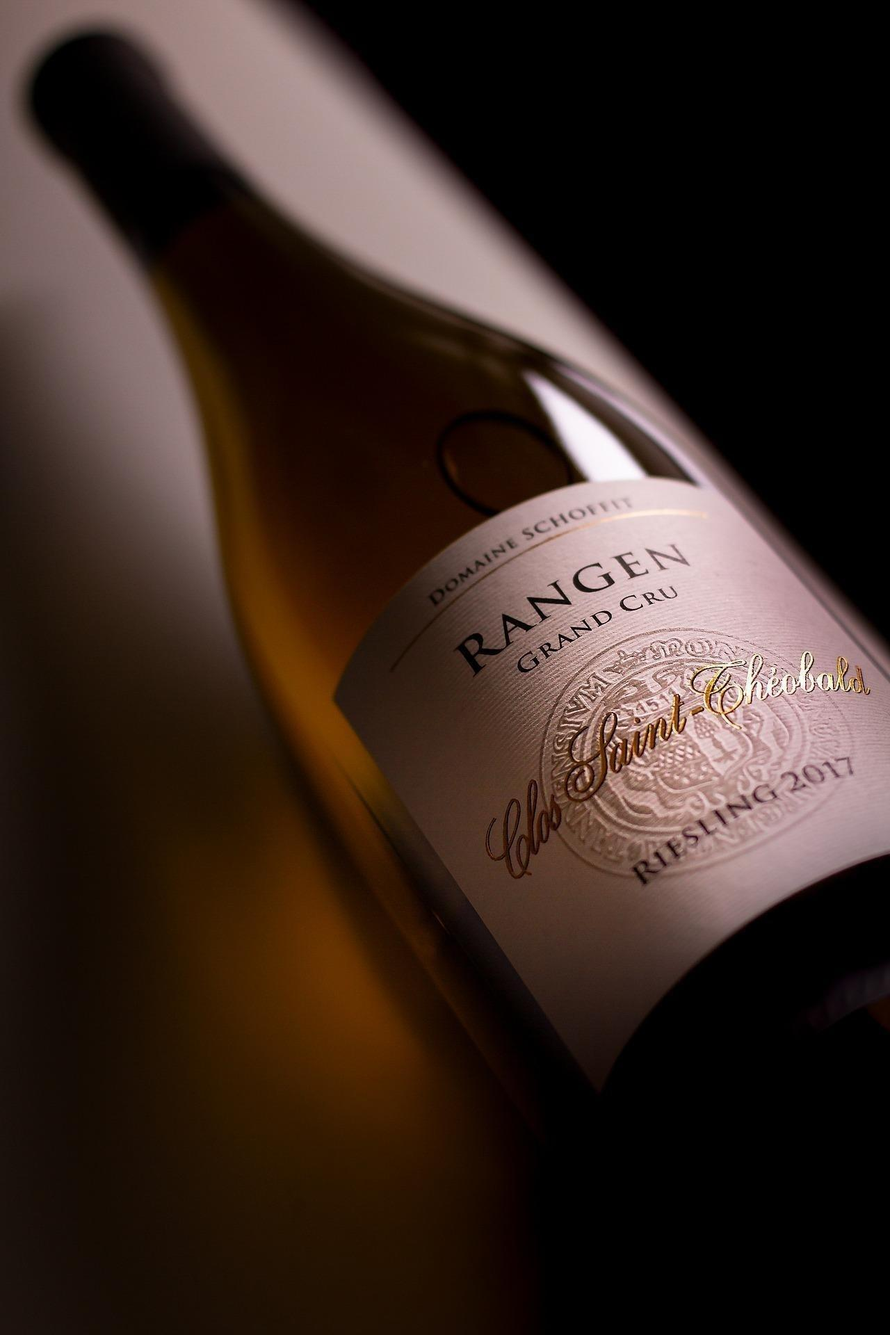bottle-glass: (15, 21, 889, 1316)
